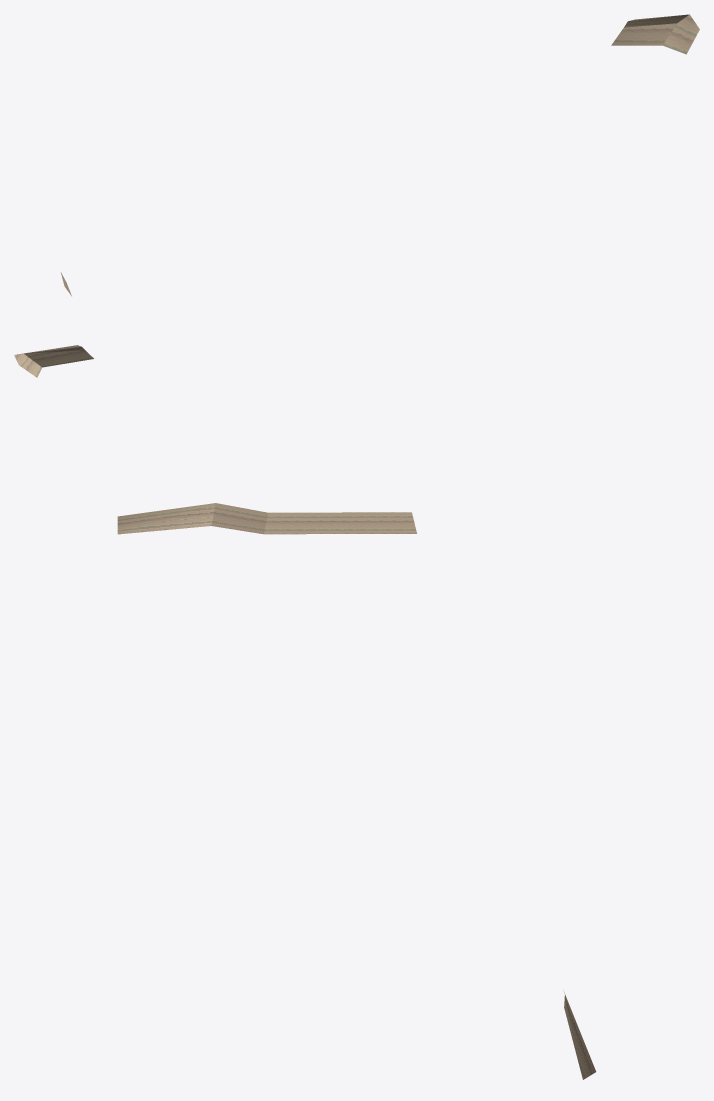
Rendered from kd_stage_136282_2_23.glb.
The picture shows the model from 3 angles, top to bottom: view 1: azimuth 30°, elevation 25°; view 2: azimuth 150°, elevation 25°; view 3: azimuth 270°, elevation 25°; orthographic projection. The views are drawn at different scales.
Visible parts, largest first — view 1: kd_stage_136282_2_23; view 2: kd_stage_136282_2_23; view 3: kd_stage_136282_2_23.
Boxes of the visible parts, x1,y1,x2,y2 form: kd_stage_136282_2_23: [60, 14, 699, 296]; kd_stage_136282_2_23: [14, 345, 93, 377]; kd_stage_136282_2_23: [117, 503, 595, 1079].
Size of the model in its own units: 109 by 5.91 by 38.62.
1 material, 1 textured.
